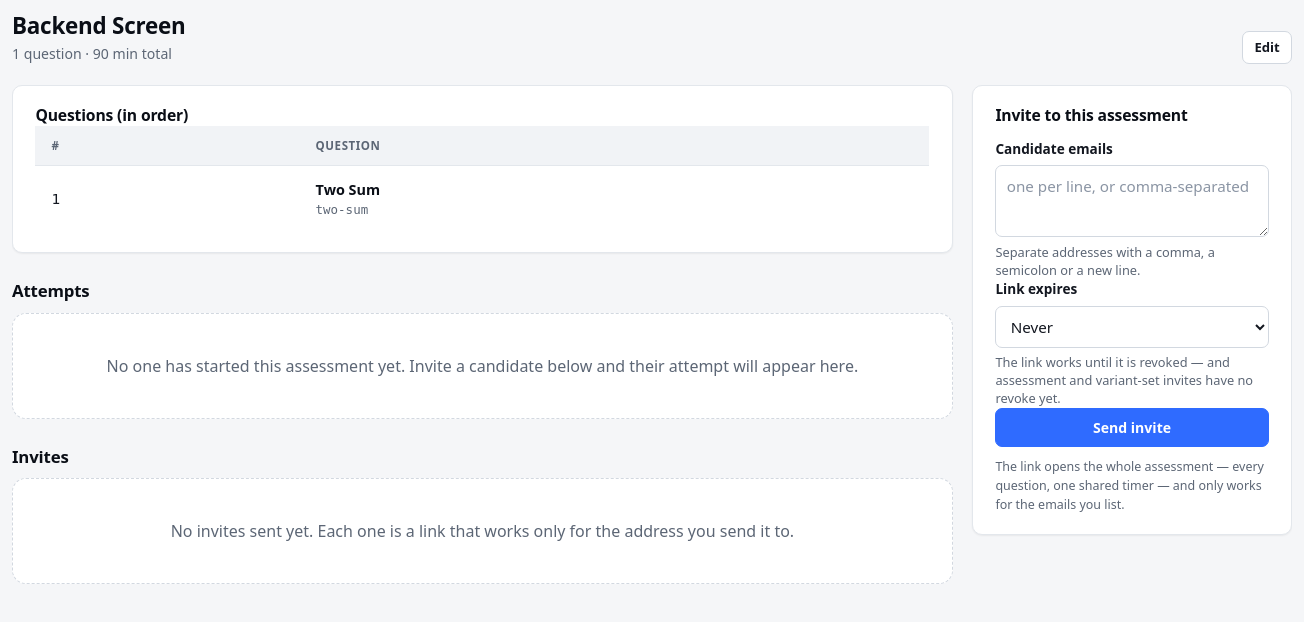
AssessmentDetailPage — invite delivery (A4) › confirms delivery only for recipients the email actually reached
Expected: the heading "Backend Screen" is shown, [12,12,186,40]
Type "alice@example.com" into the text box labelled "Candidate emails".
click(1132, 201); type("alice@example.com")  # box [995,165,1269,237]
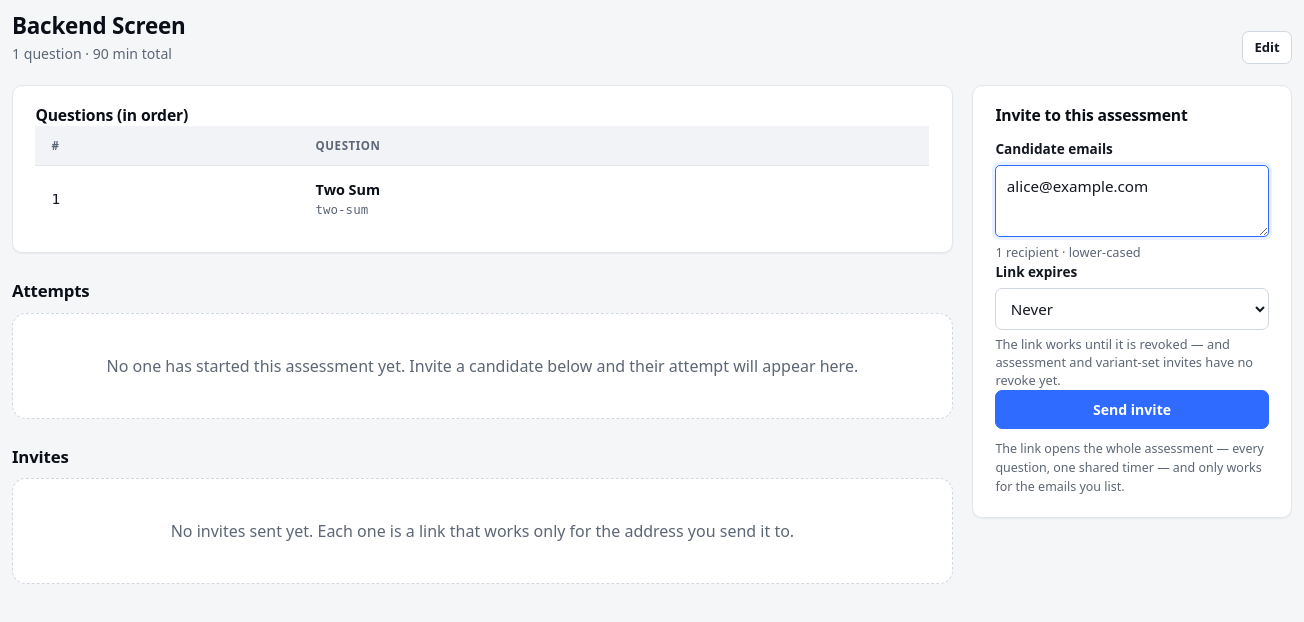
Click the button "Send invite".
click(1132, 410)  # box [995,390,1269,429]
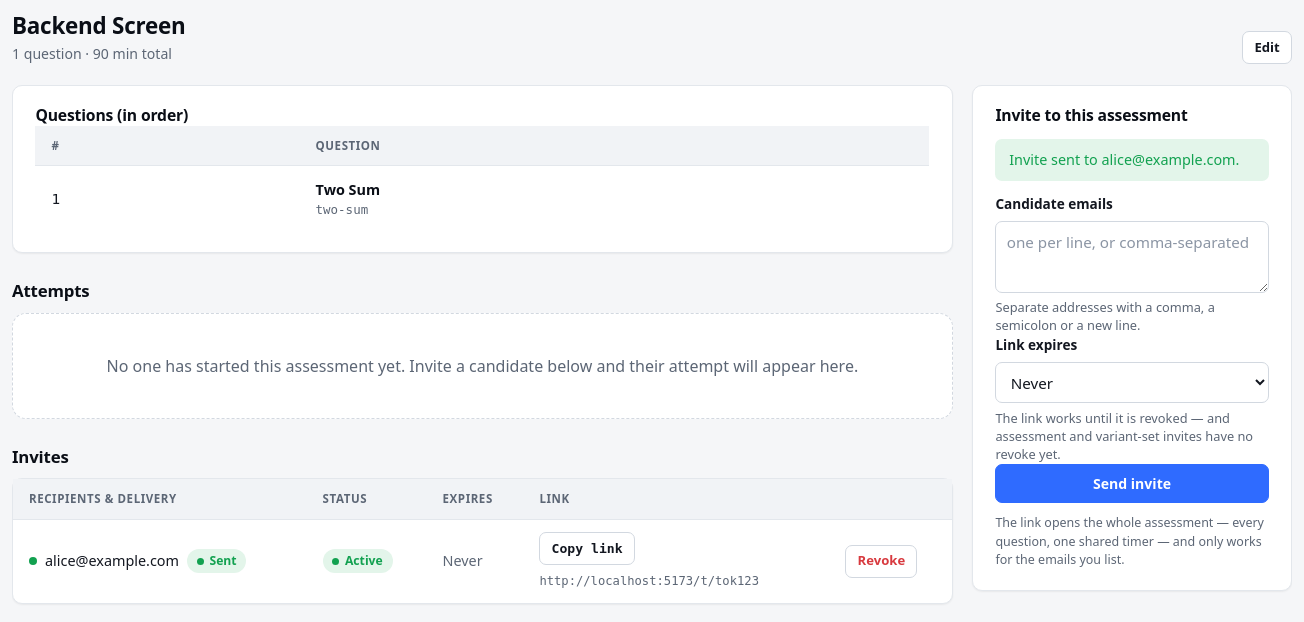
Expected: the message shows "Invite sent to alice@example.com", [995,138,1269,181]
